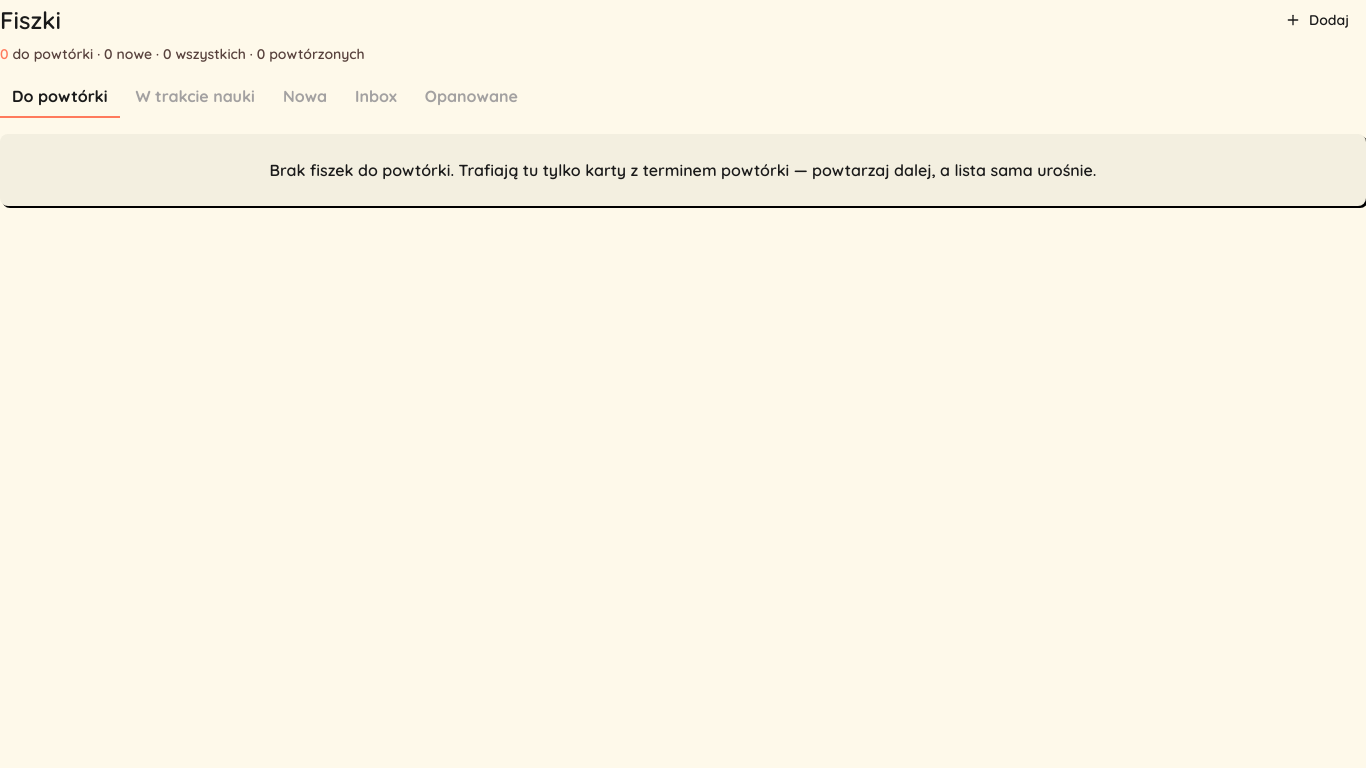
FlashcardsView › closes the add dialog after successful save
Click the button "Dodaj" at (1317, 20), box [1268,0,1365,40]
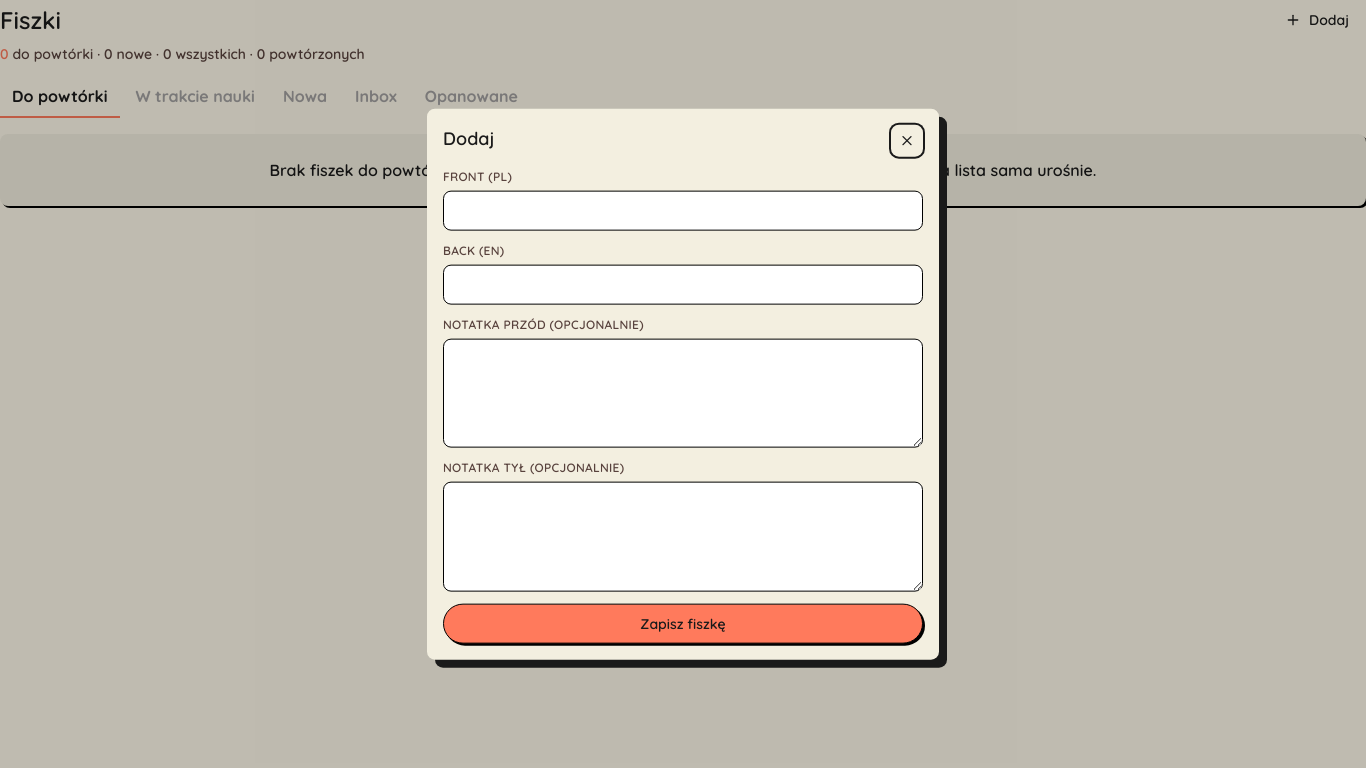
Result: the field labelled "Front (PL)" is shown
Type "A" into the field labelled "Front (PL)" at (683, 211), box [443,191,923,231]
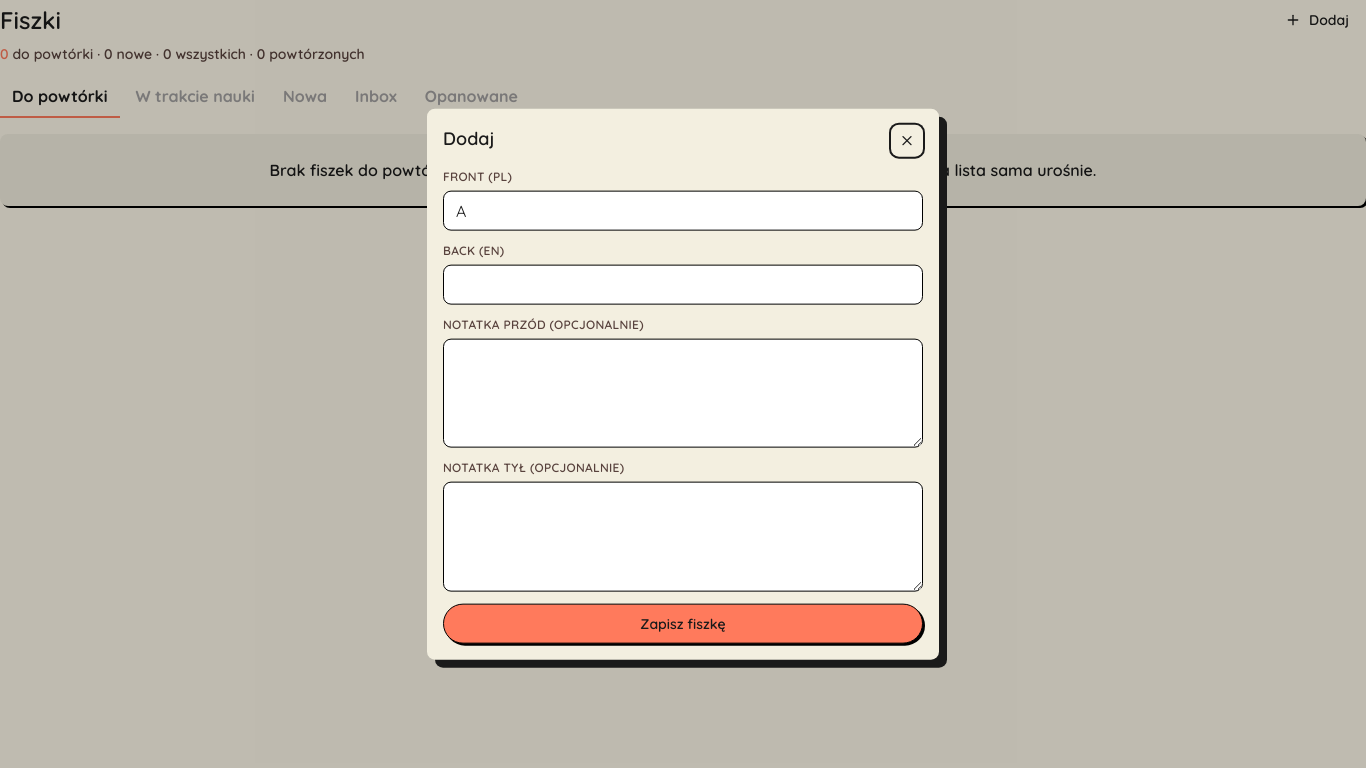
Type "B" into the field labelled "Back (EN)" at (683, 285), box [443,265,923,305]
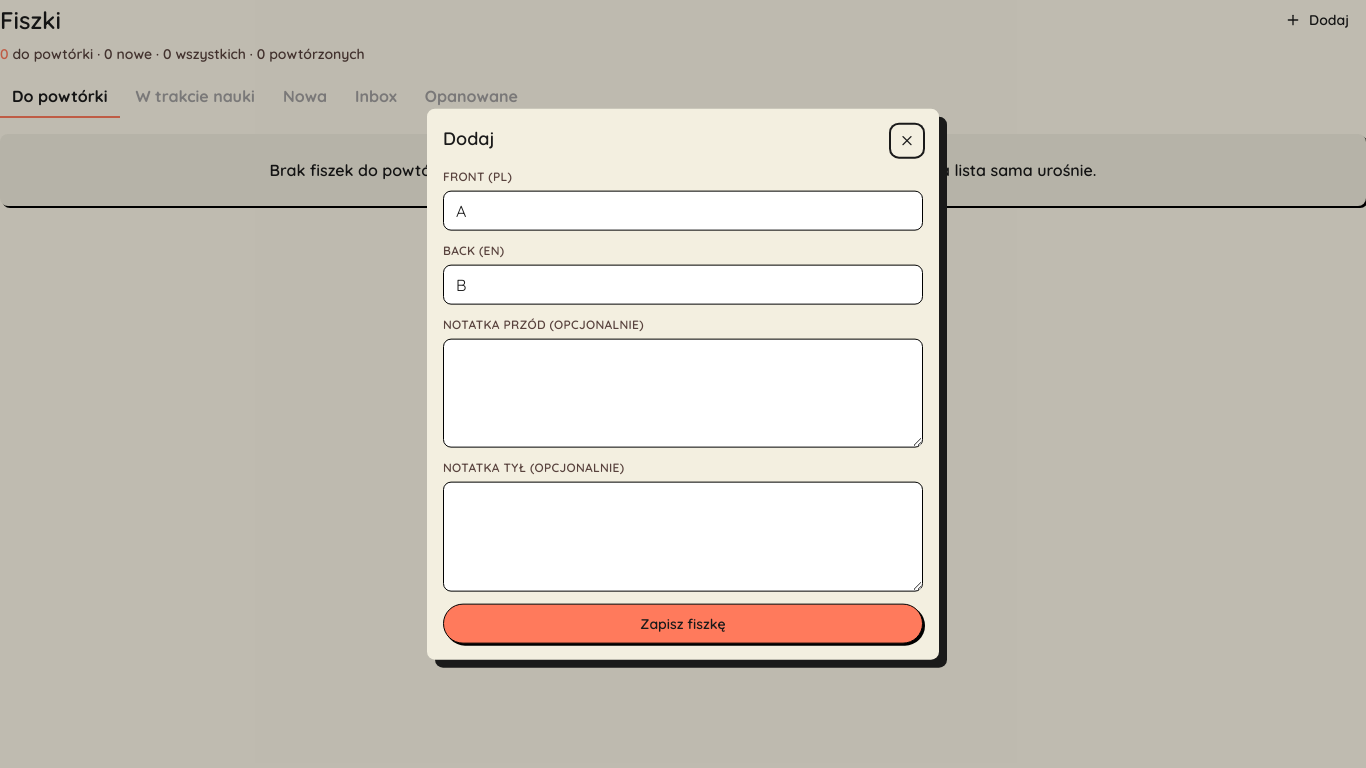
Click the button "Zapisz fiszkę" at (683, 623), box [443,603,923,643]
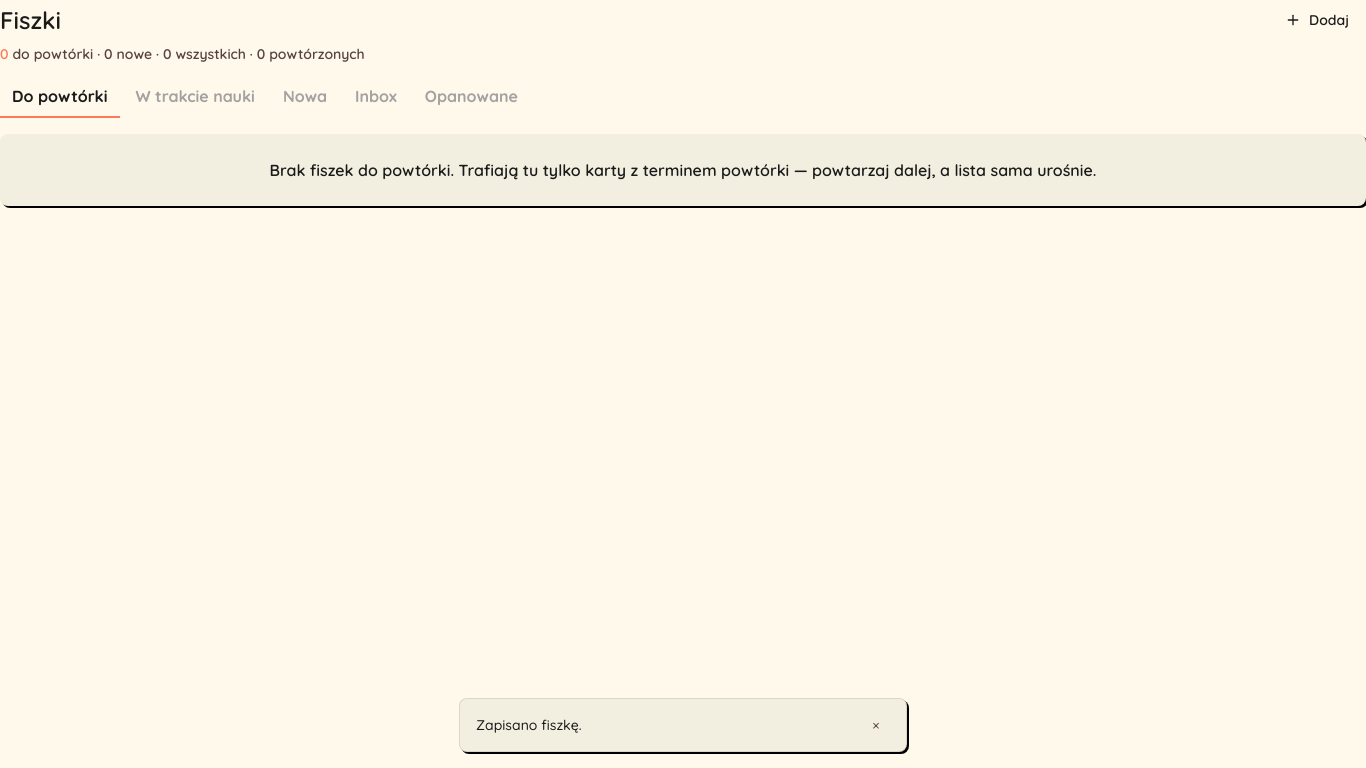
Result: the label "Front (PL)" is gone
